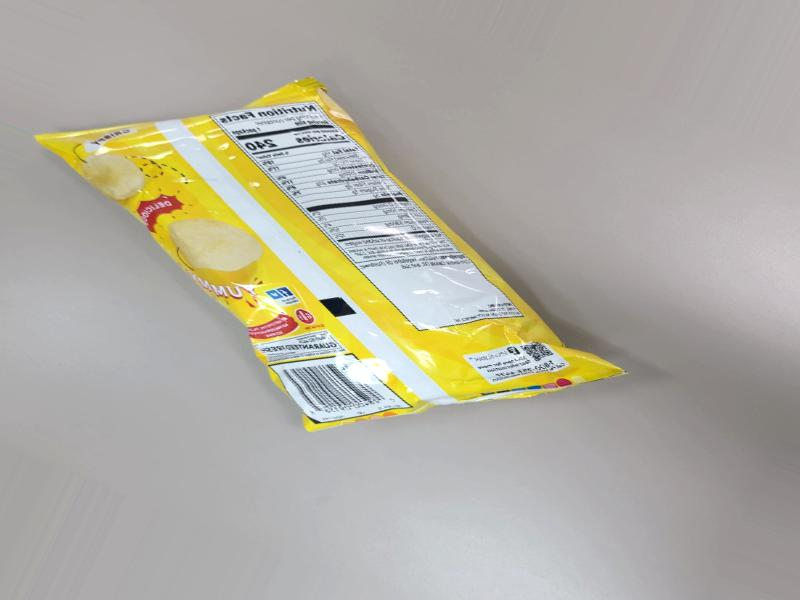lays: (115, 84, 578, 372)
